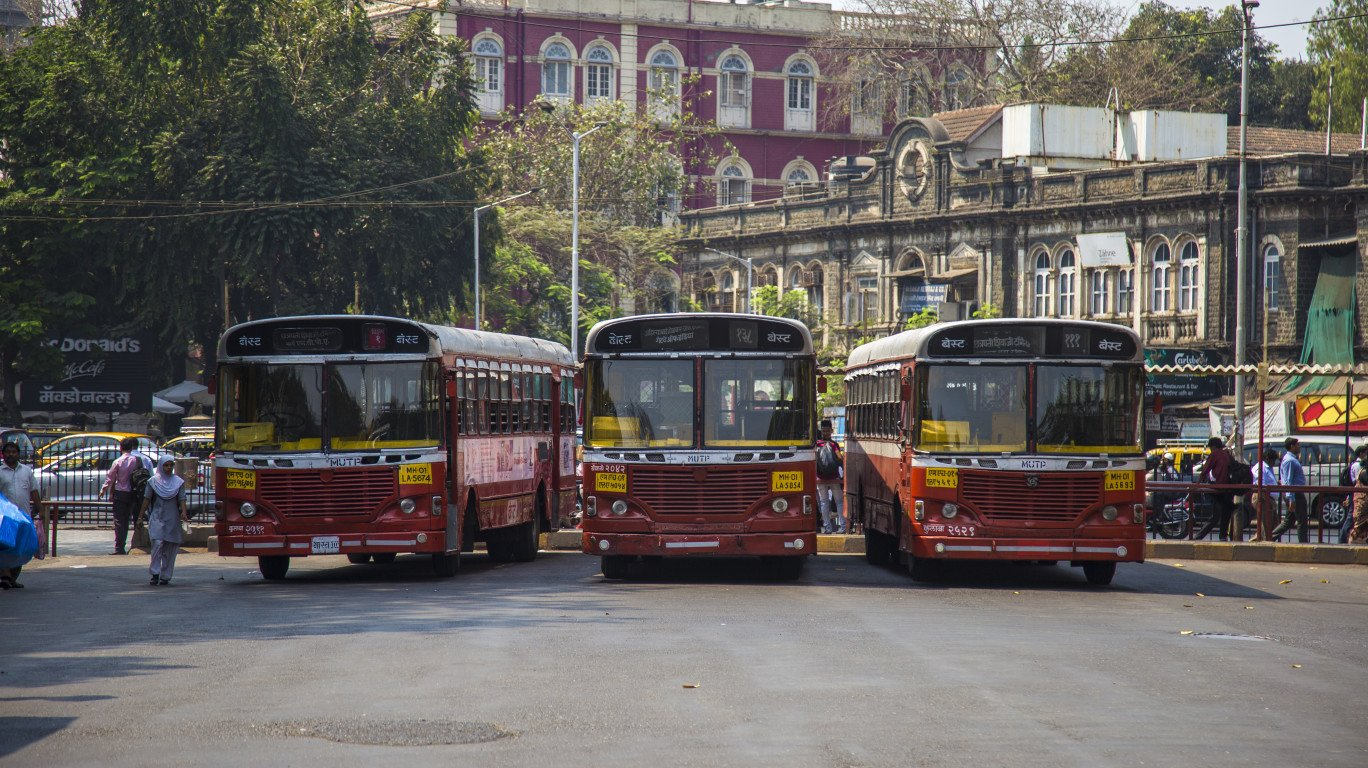bus: (205, 309, 566, 596), (841, 326, 1173, 589), (572, 305, 832, 572)
